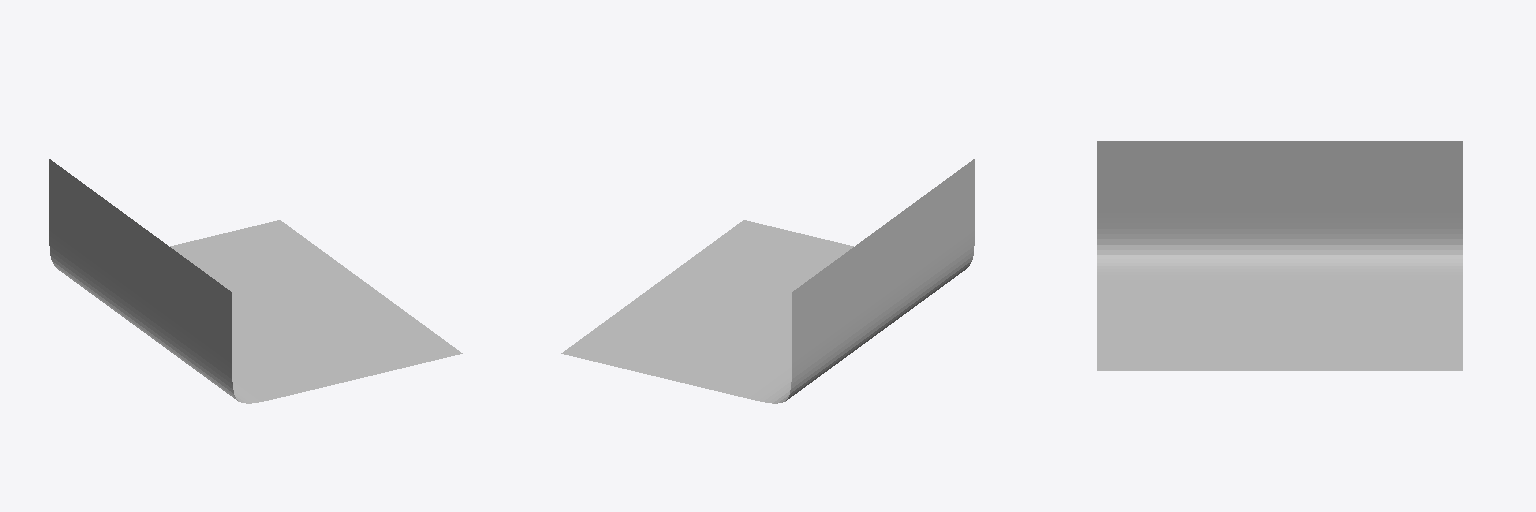
The model's file is curved-plane.obj.
The picture shows the model from 3 angles: view 1: azimuth 30°, elevation 25°; view 2: azimuth 150°, elevation 25°; view 3: azimuth 270°, elevation 25°; orthographic projection.
Visible parts, largest first — view 1: Plane.001_Plane.002; view 2: Plane.001_Plane.002; view 3: Plane.001_Plane.002.
Boxes of the visible parts, <box> form: Plane.001_Plane.002: <box>49,159,462,403</box>; Plane.001_Plane.002: <box>561,159,974,403</box>; Plane.001_Plane.002: <box>1097,141,1462,370</box>.
Bounding box in the file's own units: 4.38 × 2.13 × 6.